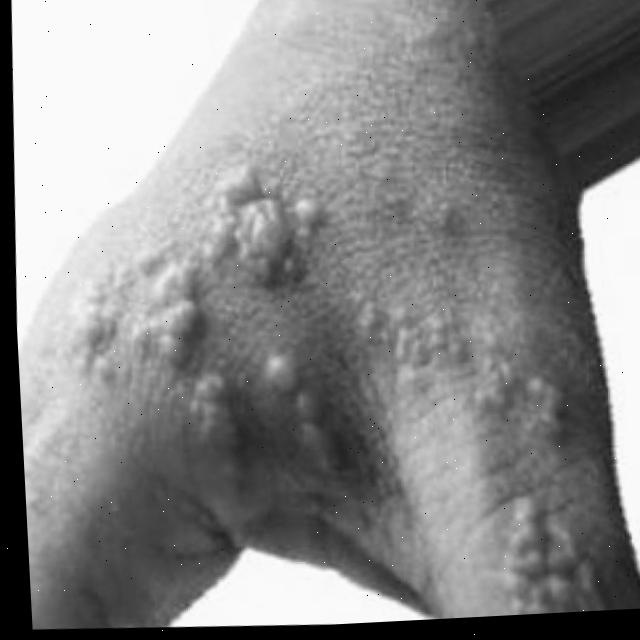Shingles: (57, 150, 331, 383), (346, 274, 574, 457), (494, 486, 597, 616), (261, 342, 352, 483), (188, 361, 250, 494)
